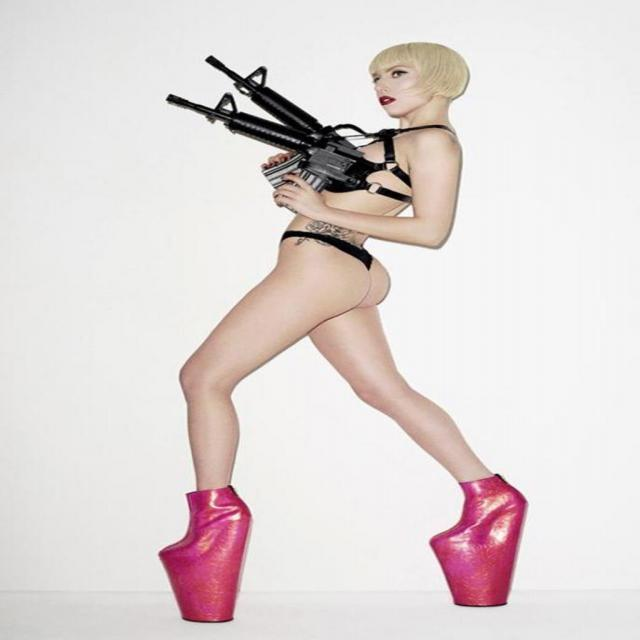weapon: (166, 93, 367, 214), (208, 56, 366, 130)
